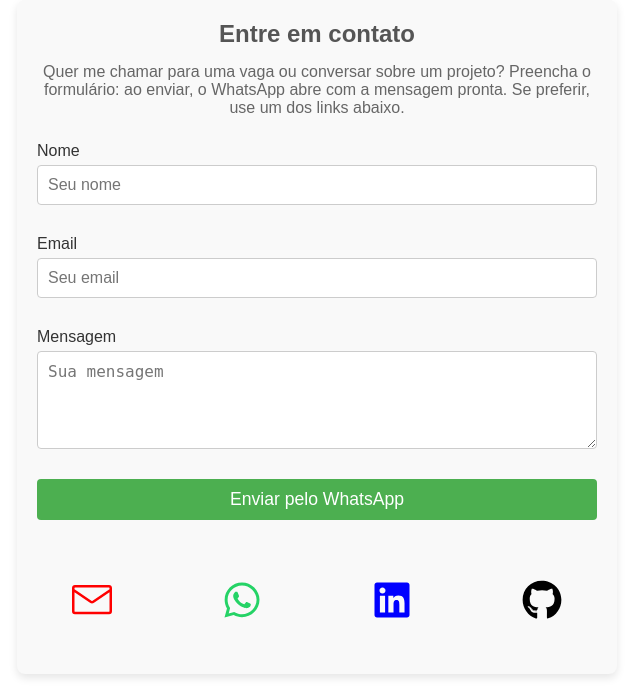
Test: Contato › pop-up liberado: abre o WhatsApp com a mensagem e limpa o formulário
The image size is (635, 696).
Type "Ana" into the field labelled "Nome" at (317, 185), box [37,165,597,205]
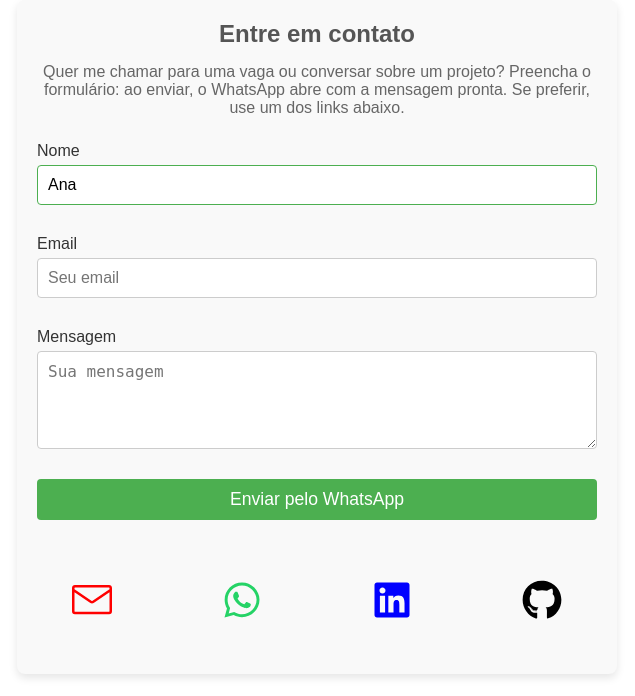
Type "ana@exemplo.com" into the field labelled "Email" at (317, 278), box [37,258,597,298]
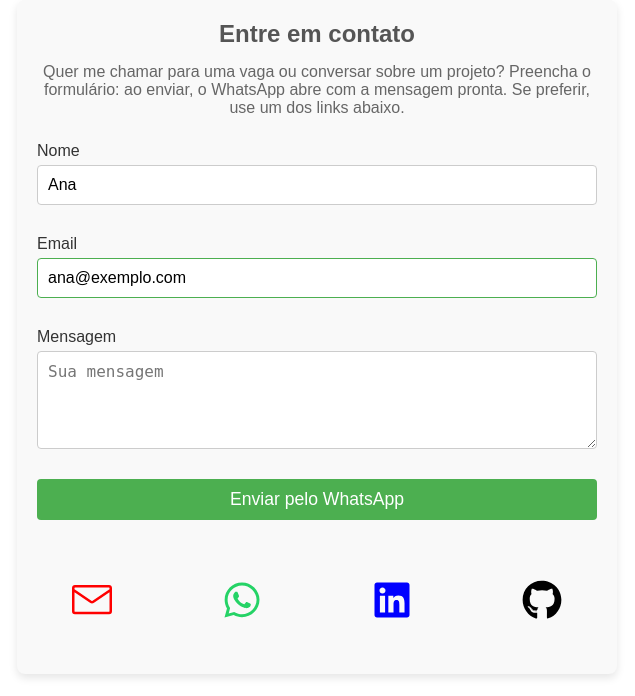
Type "Olá, vaga de dev" into the text box labelled "Mensagem" at (317, 400), box [37,351,597,449]
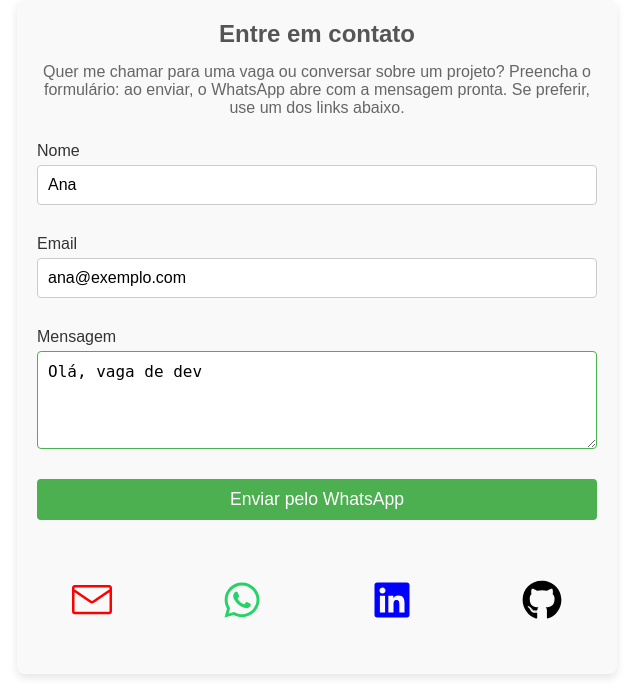
Click the button "Enviar pelo WhatsApp" at (317, 500), box [37,479,597,520]
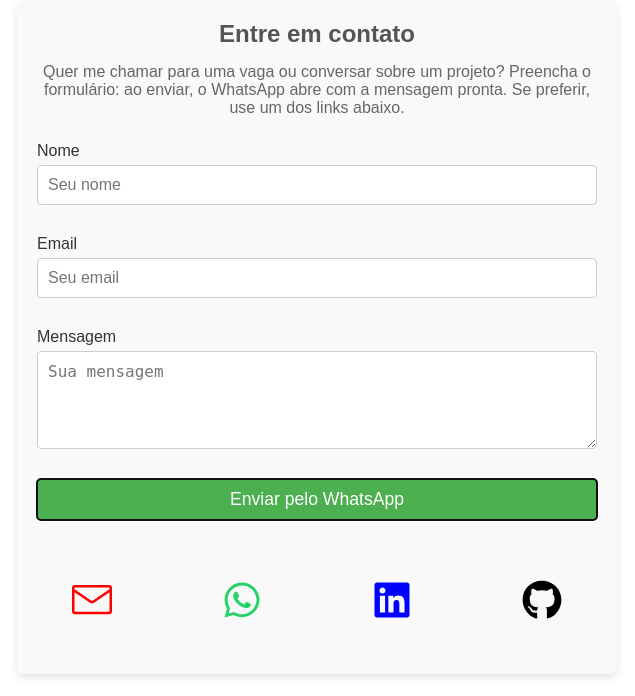
Check: the field labelled "Nome" is empty, box [37,165,597,205]
